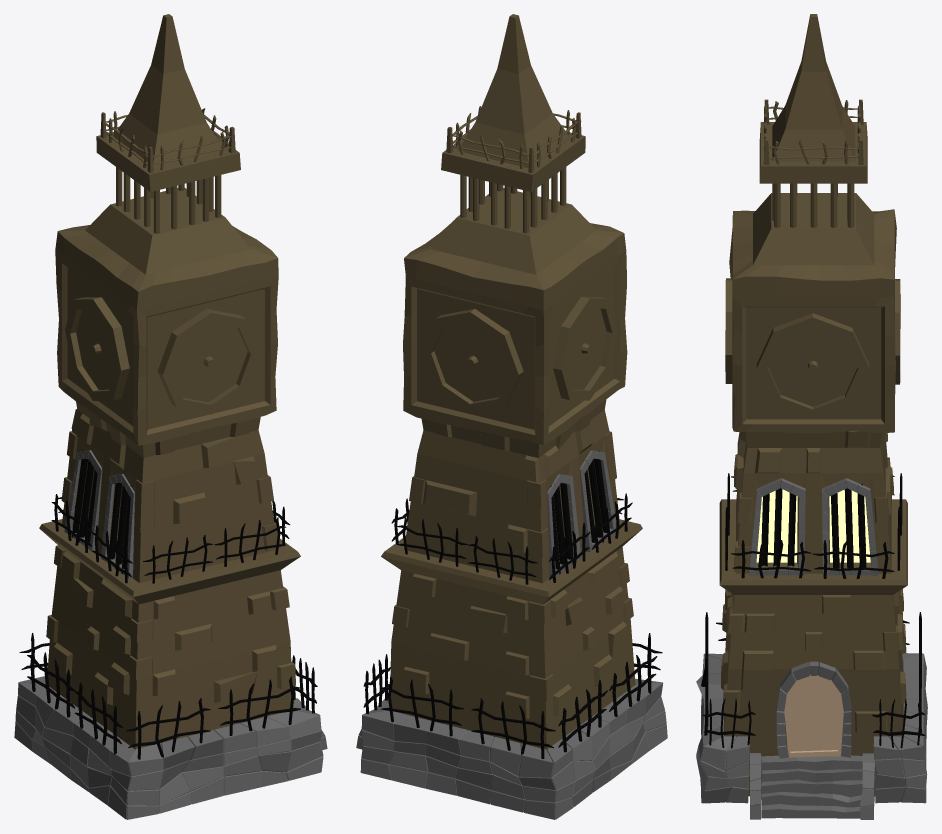
Rendered from ClockTower_Center.fbx.
3 views of the same model, side by side, from view 1: azimuth 30°, elevation 25°; view 2: azimuth 150°, elevation 25°; view 3: azimuth 270°, elevation 25° (orthographic).
Parts seen in each view (by area): view 1: BigBen; view 2: BigBen; view 3: BigBen.
Part boxes in pixels (left/top/right/bottom): BigBen: left=14, top=14, right=327, bottom=819; BigBen: left=356, top=14, right=667, bottom=819; BigBen: left=696, top=14, right=927, bottom=819.
Size of the model in its own units: 309 by 942 by 267.
